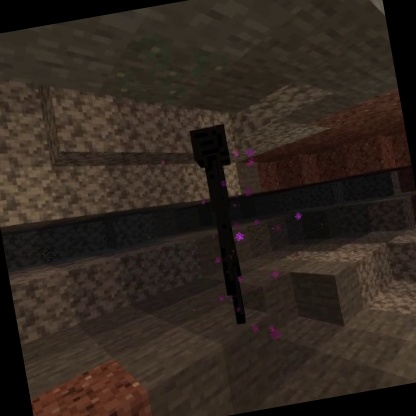enderman: (186, 121, 262, 332)
